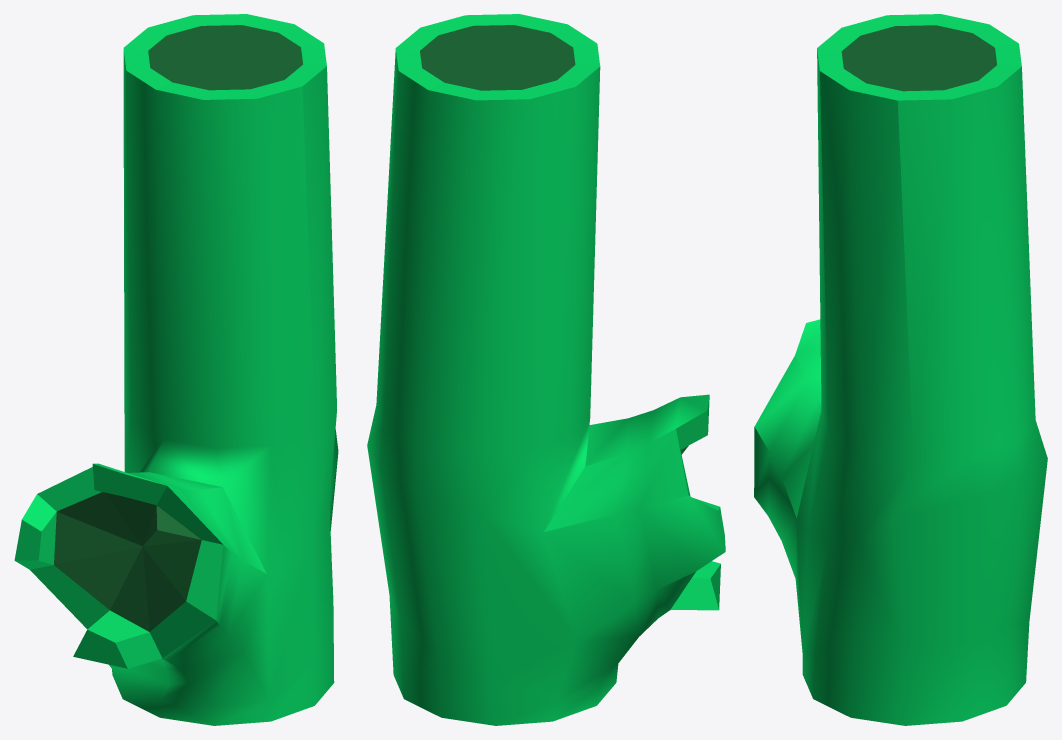
File: obj_harvests_trees_leafy01_p03.fbx
3 views of the same model, side by side, from view 1: azimuth 30°, elevation 25°; view 2: azimuth 150°, elevation 25°; view 3: azimuth 270°, elevation 25° (orthographic).
Parts seen in each view (by area): view 1: chunk03; view 2: chunk03; view 3: chunk03.
Part boxes in pixels (left/top/right/bottom): chunk03: left=14, top=14, right=338, bottom=725; chunk03: left=367, top=14, right=725, bottom=725; chunk03: left=754, top=14, right=1047, bottom=725.
Bounding box in the file's own units: 4.34 × 8 × 3.42.
